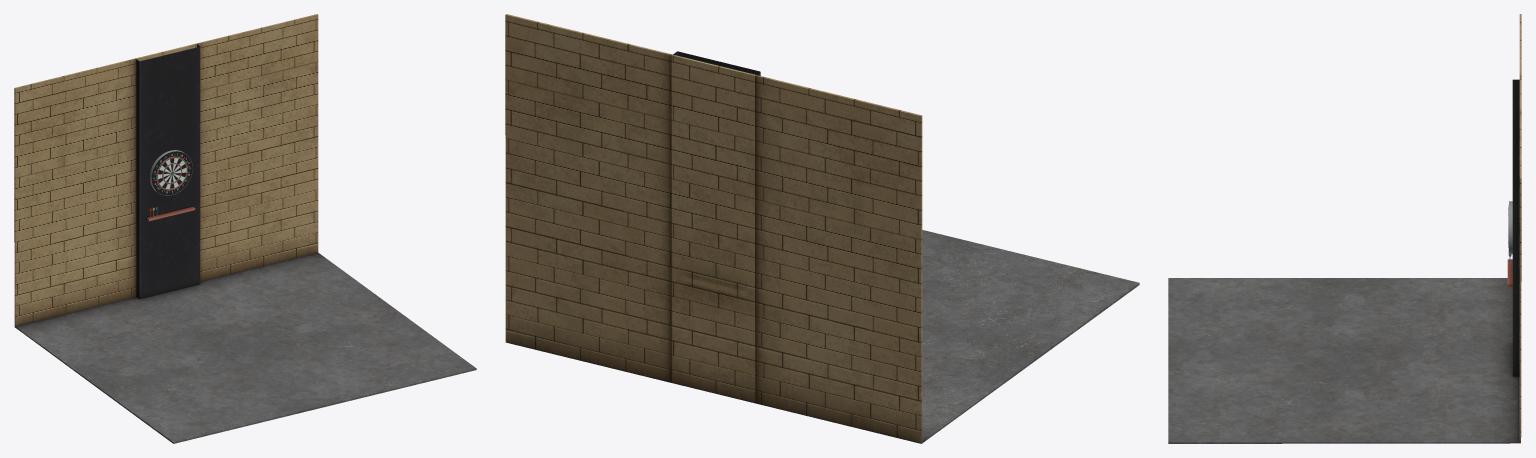
The model's file is darts.fbx.
3 renders of one model, left to right at view 1: azimuth 30°, elevation 25°; view 2: azimuth 150°, elevation 25°; view 3: azimuth 270°, elevation 25°, orthographic. The views are drawn at different scales.
Visible parts, largest first — view 1: room, darts_target; view 2: room; view 3: room.
Part boxes in pixels (<box>): room: <box>14,14,476,443</box>; darts_target: <box>150,150,192,195</box>; room: <box>505,14,1139,443</box>; room: <box>1168,14,1521,443</box>.
Bounding box in the file's own units: 4 × 3.02 × 3.64.
